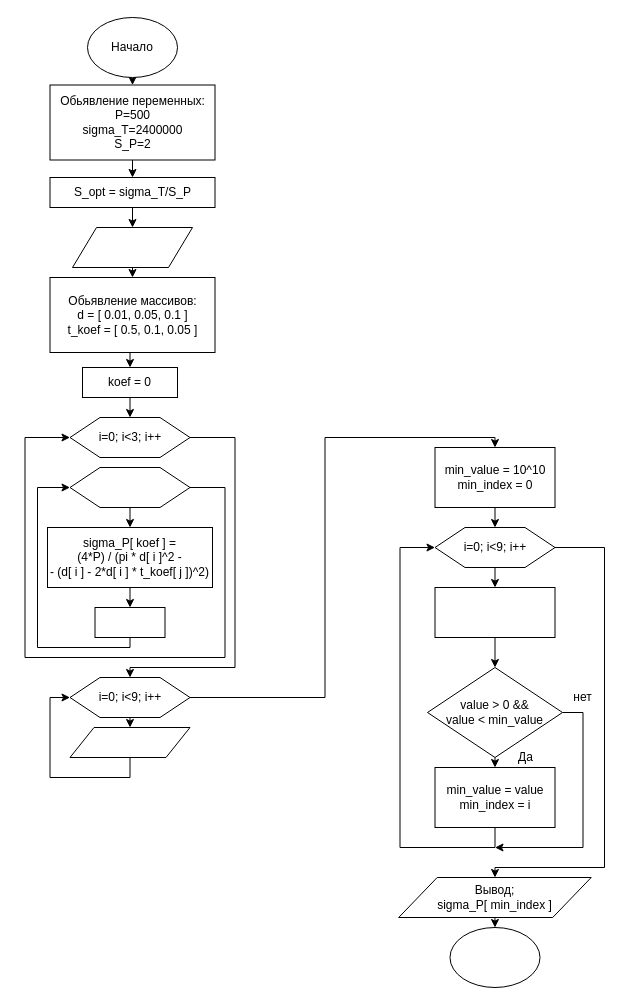
Image size: 630x1005. Some labels were removed from this diagram. Each missing label, with the centre of its shape:
"j=0; j<3; j++" belongs at point 129,487.
"koef += 1" belongs at point 129,622.
"sigma_P[ i ]" belongs at point 129,742.
"value = S_opt - sigma_P[ i ]" belongs at point 494,612.
"Вывод: S_opt" belongs at point 132,247.
"Конец" belongs at point 494,957.
